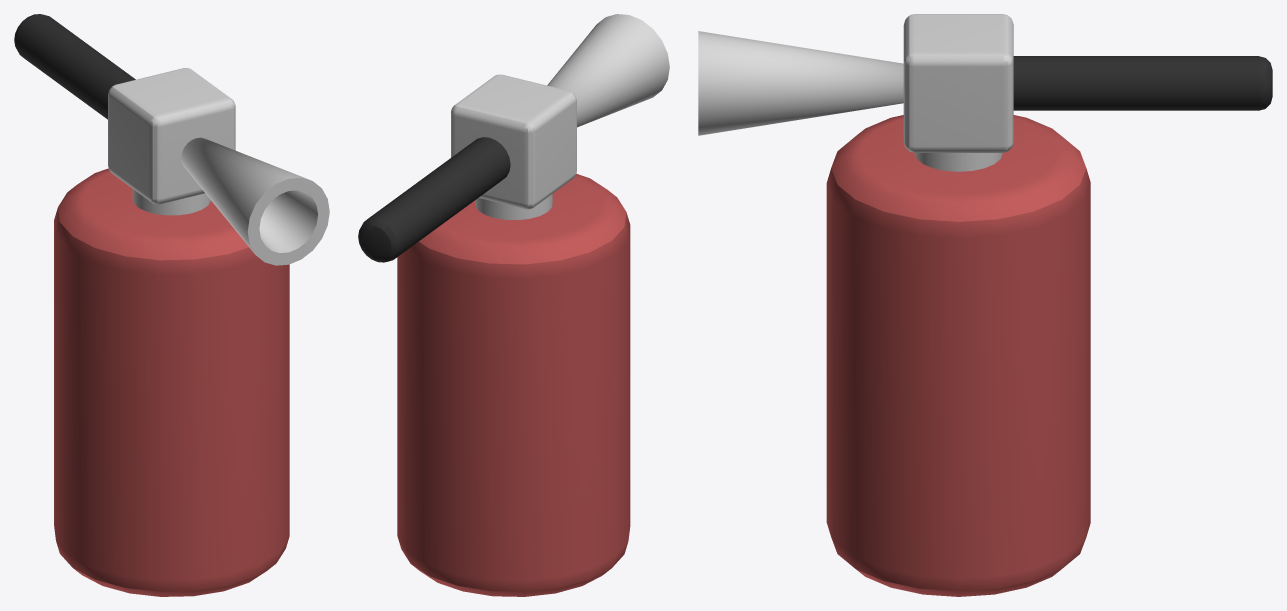
The model's file is Extinguisher.fbx.
3 renders of one model, left to right at view 1: azimuth 30°, elevation 25°; view 2: azimuth 150°, elevation 25°; view 3: azimuth 270°, elevation 25°, orthographic. The views are drawn at different scales.
Visible parts, largest first — view 1: pCylinder7; view 2: pCylinder7; view 3: pCylinder7.
Part boxes in pixels (<box>): pCylinder7: <box>14,14,329,596</box>; pCylinder7: <box>358,14,669,596</box>; pCylinder7: <box>698,14,1272,596</box>.
Bounding box in the file's own units: 2.4 × 5.2 × 5.22.
